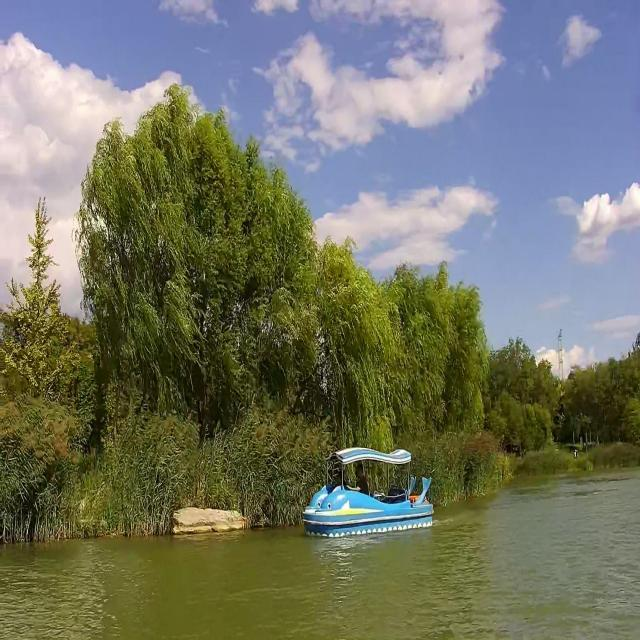CIV_Ship: (302, 446, 434, 536)
